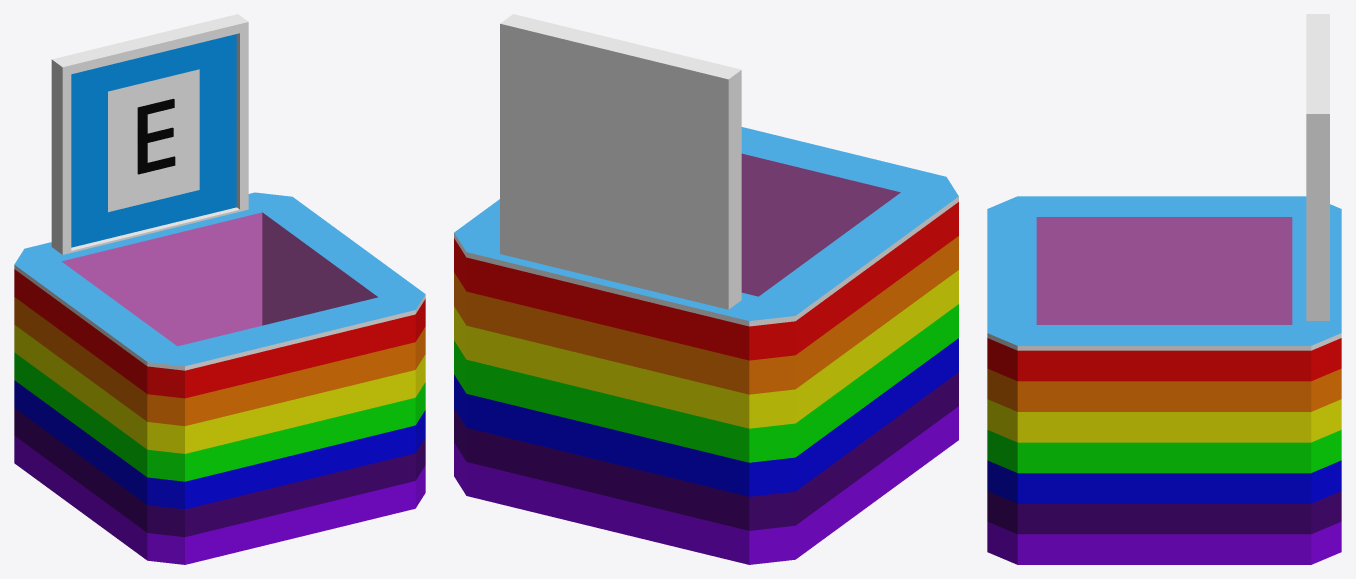
The picture shows the model from 3 angles, left to right: view 1: azimuth 30°, elevation 25°; view 2: azimuth 150°, elevation 25°; view 3: azimuth 270°, elevation 25°; orthographic projection. The views are drawn at different scales.
Parts seen in each view (by area): view 1: Cube.001, Text; view 2: Cube.001; view 3: Cube.001.
Boxes of the visible parts, <box> form: Cube.001: <box>14,14,425,564</box>; Text: <box>137,98,175,174</box>; Cube.001: <box>454,14,958,564</box>; Cube.001: <box>987,14,1341,564</box>.
Bounding box in the file's own units: 383 × 508 × 383.
